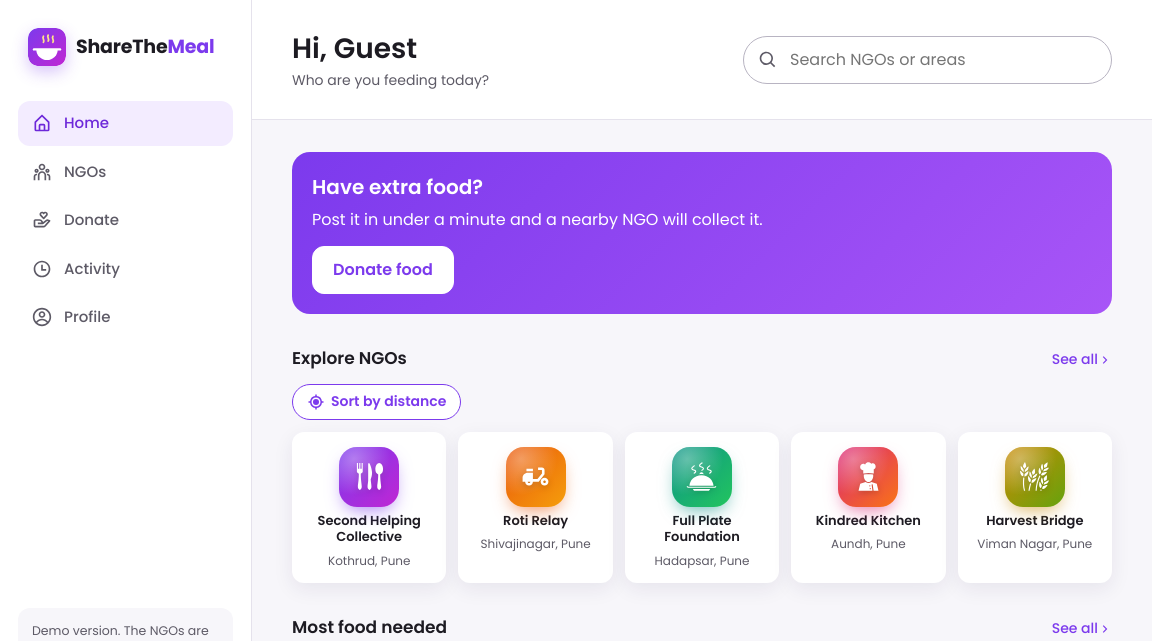
finding NGOs nearby › says plainly when the demo NGOs are far away
Step 1. Click the button "Sort by distance" → click(377, 402), box [292,384,461,420]
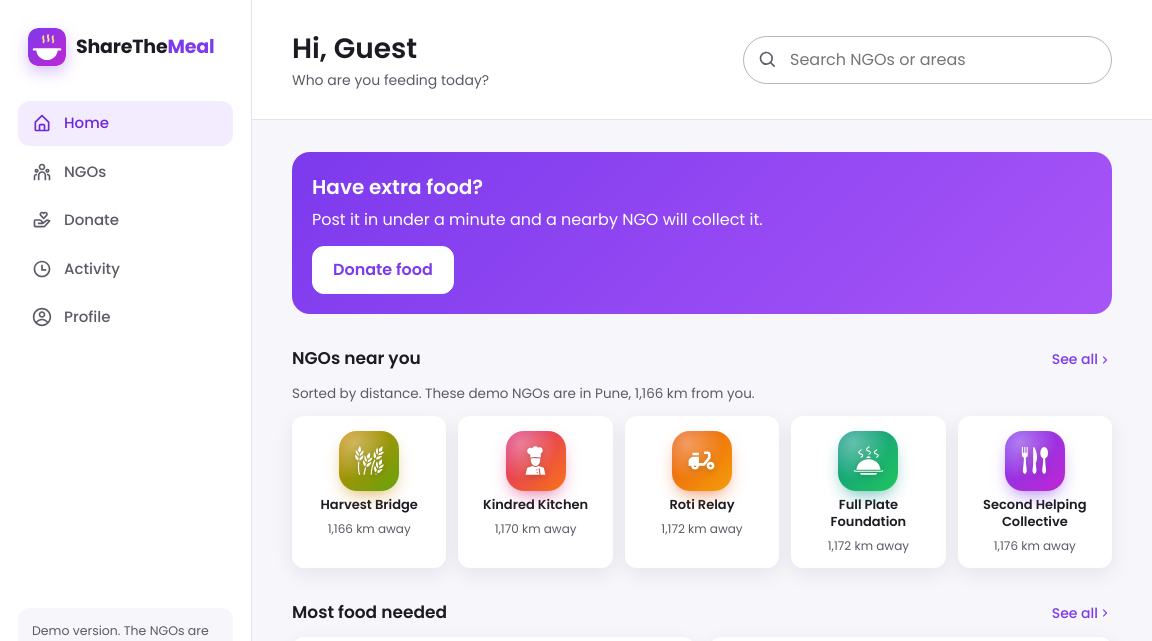
Now the heading "NGOs near you" is shown, box [292,346,421,372]
Now the text "Sorted by distance. These demo NGOs are in Pune, 1,166 km from you." is shown, box [292,384,755,402]
